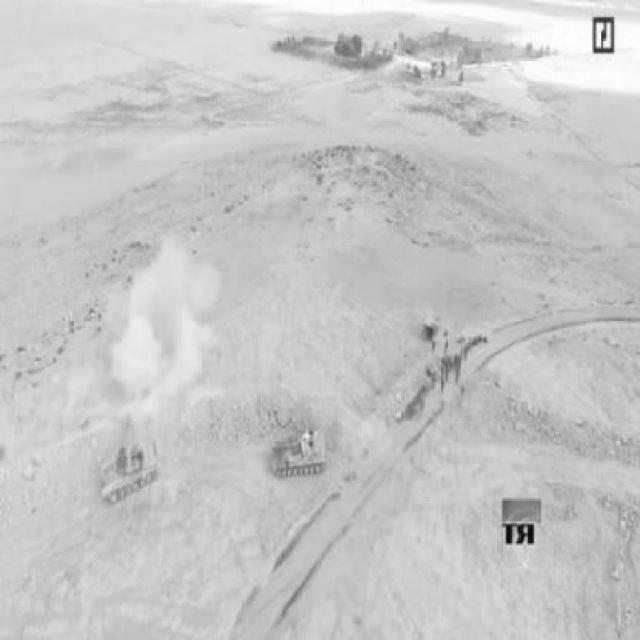Vehicle: (104, 438, 164, 506), (273, 430, 329, 481)
